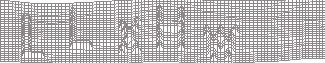H: (155, 4, 188, 53)
L: (19, 12, 48, 60), (67, 6, 95, 50)
w: (200, 22, 242, 63)
x: (116, 15, 145, 56)
